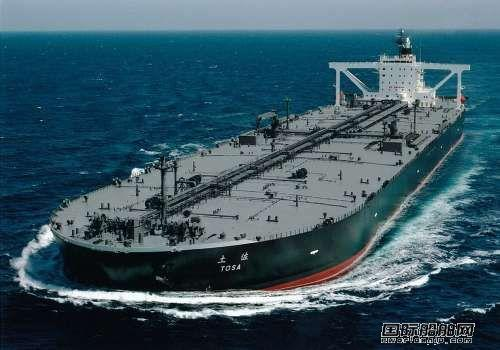Cargoship: (35, 27, 473, 294)
